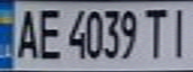0: (84, 6, 103, 61)
3: (103, 7, 121, 60)
4: (63, 6, 87, 61)
9: (118, 6, 142, 60)
A: (9, 4, 42, 61)
E: (33, 4, 63, 61)
I: (163, 3, 193, 60)
T: (142, 4, 172, 60)
